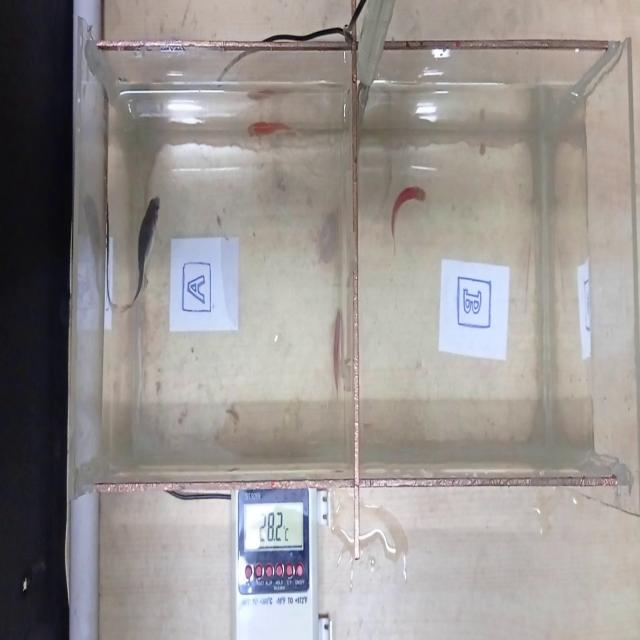Fish A1: (120, 185, 165, 343)
Fish A2: (242, 106, 298, 154)
Fish A3: (330, 276, 345, 401)
Fish B: (387, 166, 436, 262)
